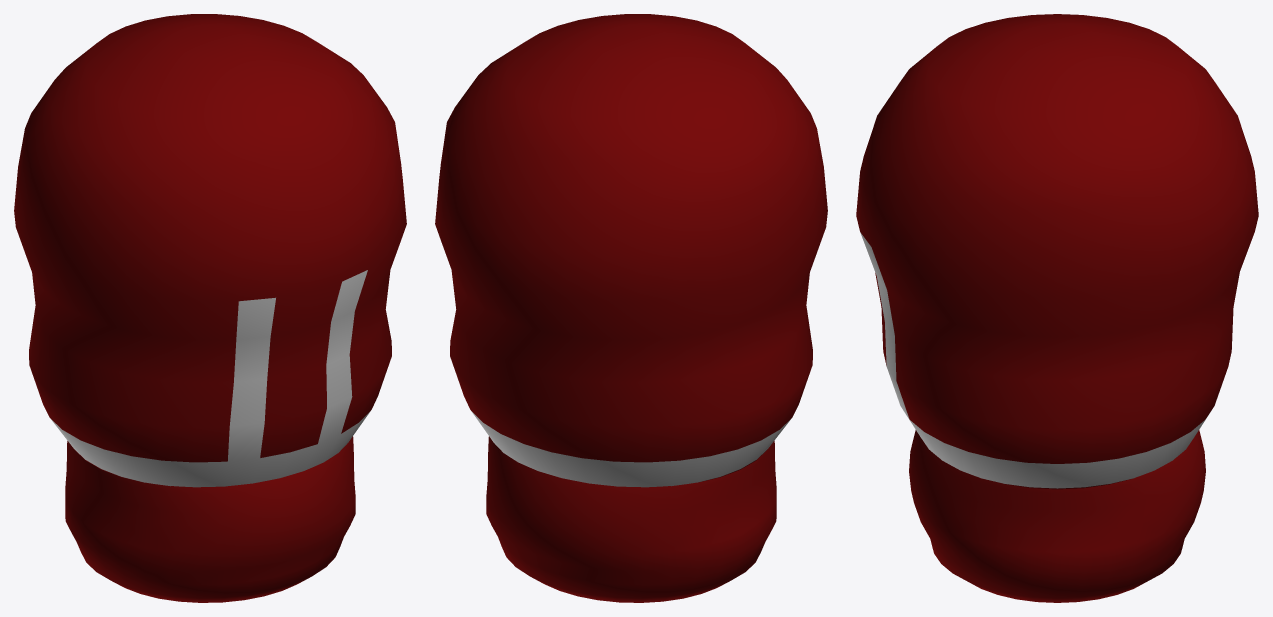
File: body.gltf
3 views of the same model, side by side, from view 1: azimuth 30°, elevation 25°; view 2: azimuth 150°, elevation 25°; view 3: azimuth 270°, elevation 25° (orthographic).
Visible parts, largest first — view 1: body.025, Sphere.149; view 2: body.025, Sphere.149; view 3: body.025, Sphere.149.
Part boxes in pixels (x1,y1,x2,y2): body.025: (14, 14, 406, 487); Sphere.149: (65, 436, 355, 602); body.025: (435, 14, 827, 487); Sphere.149: (486, 436, 776, 602); body.025: (856, 14, 1258, 489); Sphere.149: (909, 430, 1205, 602).
Size of the model in its own units: 0.2714 by 0.4028 by 0.2798.
2 materials, 2 textured.
